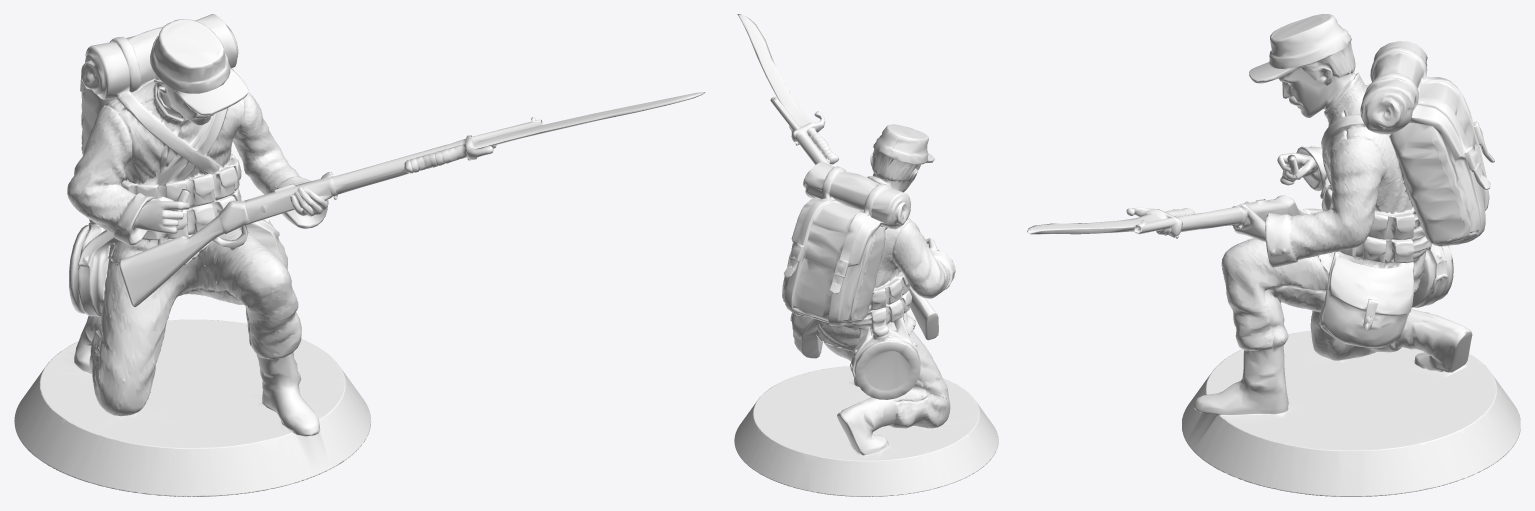
File: Chilean Infantery_pose_cargando_low.glb
3 renders of one model, left to right at view 1: azimuth 30°, elevation 25°; view 2: azimuth 150°, elevation 25°; view 3: azimuth 270°, elevation 25°, orthographic. The views are drawn at different scales.
Visible parts, largest first — view 1: Chilean Infantery_pose_cargando_low; view 2: Chilean Infantery_pose_cargando_low; view 3: Chilean Infantery_pose_cargando_low.
Part boxes in pixels (x1,y1,x2,y2): Chilean Infantery_pose_cargando_low: [14, 14, 705, 496]; Chilean Infantery_pose_cargando_low: [734, 14, 998, 496]; Chilean Infantery_pose_cargando_low: [1027, 14, 1520, 496].
Size of the model in its own units: 75.53 by 60.28 by 68.13.
1 material, 1 textured.
